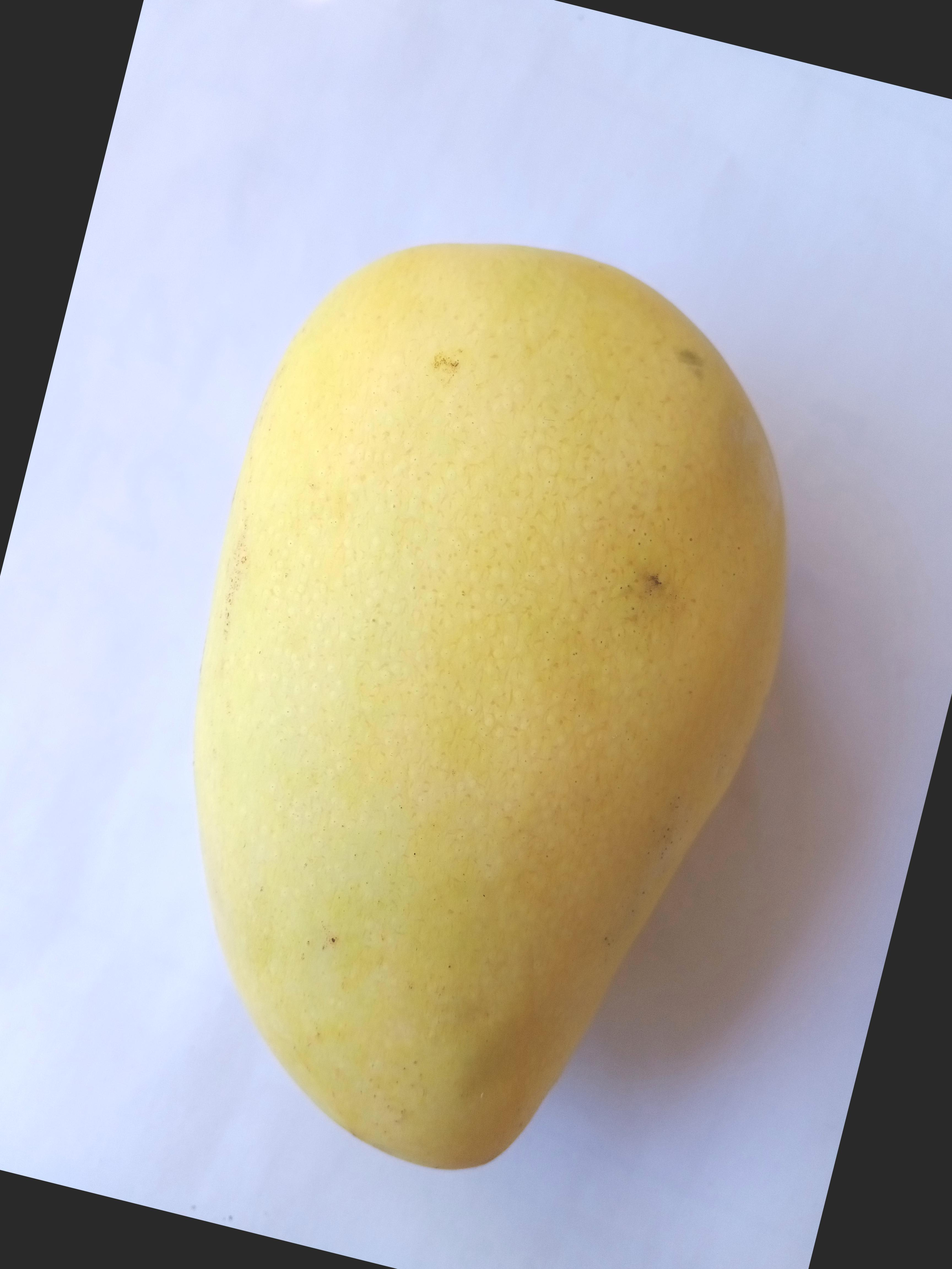Mango Ripe: (255, 15, 952, 1141)
